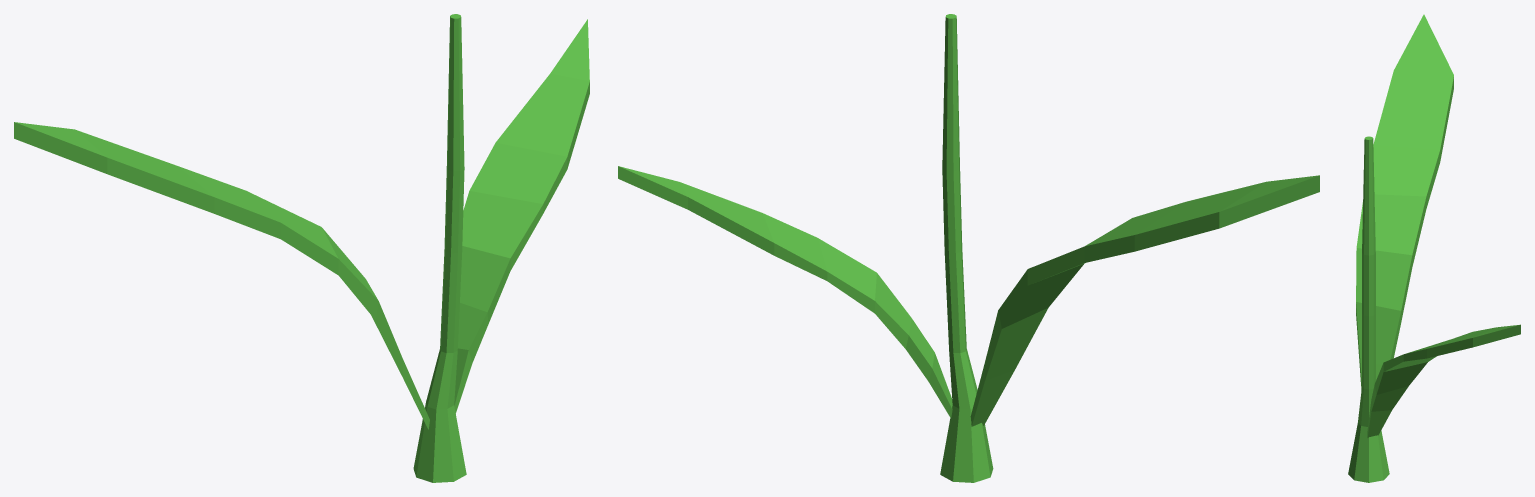
Rendered from carrot_adult.fbx.
3 renders of one model, left to right at view 1: azimuth 30°, elevation 25°; view 2: azimuth 150°, elevation 25°; view 3: azimuth 270°, elevation 25°, orthographic. The views are drawn at different scales.
Parts seen in each view (by area): view 1: carrot_adult; view 2: carrot_adult; view 3: carrot_adult.
Boxes of the visible parts, x1,y1,x2,y2 form: carrot_adult: (14, 14, 589, 482); carrot_adult: (618, 14, 1319, 482); carrot_adult: (1348, 14, 1520, 482).
Size of the model in its own units: 45.38 by 30.7 by 14.08.
